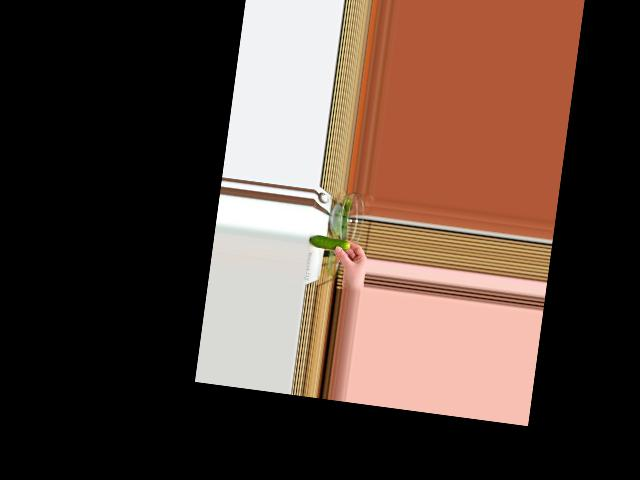cucumber: (308, 234, 350, 252)
